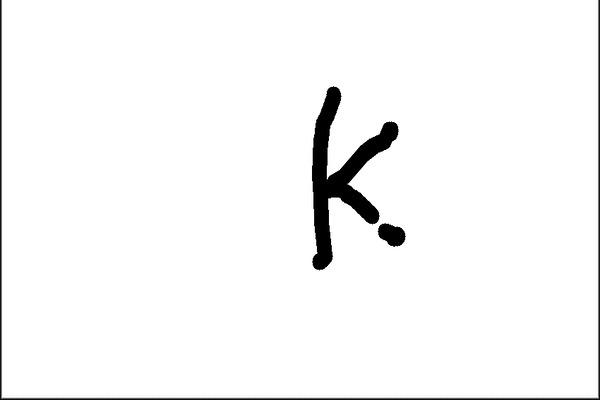K: (303, 79, 407, 274)
